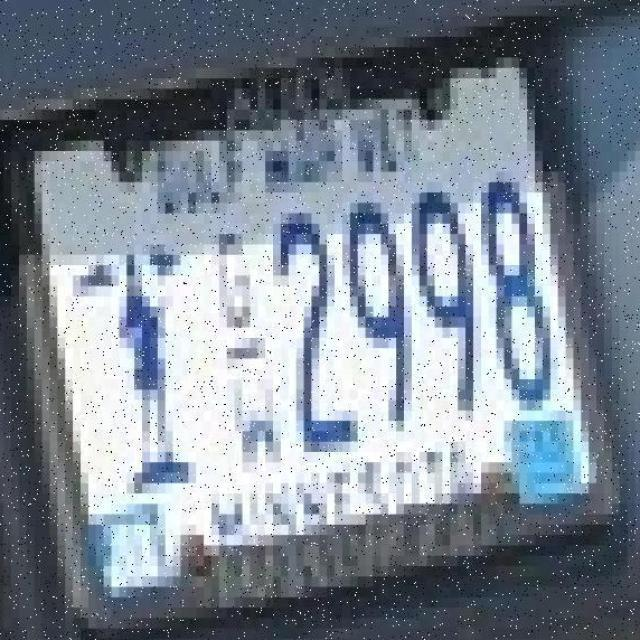license-plate: (12, 24, 640, 607)
